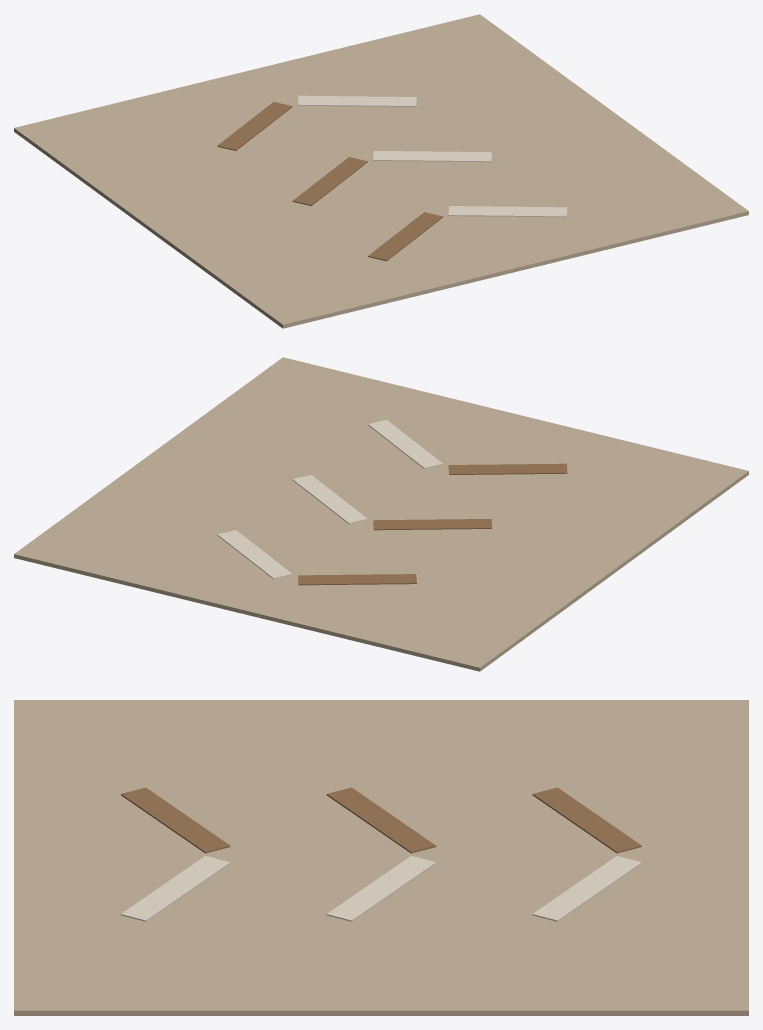
3 renders of one model, top to bottom at view 1: azimuth 30°, elevation 25°; view 2: azimuth 150°, elevation 25°; view 3: azimuth 270°, elevation 25°, orthographic. The views are drawn at different scales.
Parts seen in each view (by area): view 1: floor-base, chevron-right-2, chevron-right-0, chevron-right-1, chevron-left-0, chevron-left-1, chevron-left-2; view 2: floor-base, chevron-left-0, chevron-left-2, chevron-left-1, chevron-right-0, chevron-right-1, chevron-right-2; view 3: floor-base, chevron-right-1, chevron-left-1, chevron-left-2, chevron-left-0, chevron-right-2, chevron-right-0.
Boxes of the visible parts, left/top/right/bottom form: floor-base: left=14, top=14, right=748, bottom=328; chevron-right-2: left=448, top=206, right=567, bottom=217; chevron-right-0: left=298, top=95, right=416, bottom=106; chevron-right-1: left=373, top=151, right=492, bottom=162; chevron-left-0: left=217, top=102, right=292, bottom=150; chevron-left-1: left=292, top=157, right=367, bottom=205; chevron-left-2: left=368, top=212, right=443, bottom=261; floor-base: left=14, top=357, right=748, bottom=671; chevron-left-0: left=298, top=574, right=416, bottom=585; chevron-left-2: left=448, top=463, right=567, bottom=474; chevron-left-1: left=373, top=519, right=492, bottom=530; chevron-right-0: left=217, top=530, right=292, bottom=579; chevron-right-1: left=292, top=475, right=367, bottom=523; chevron-right-2: left=368, top=420, right=443, bottom=468; floor-base: left=14, top=700, right=748, bottom=1015; chevron-right-1: left=326, top=856, right=436, bottom=921; chevron-left-1: left=326, top=787, right=436, bottom=853; chevron-left-2: left=121, top=787, right=230, bottom=853; chevron-left-0: left=532, top=787, right=641, bottom=853; chevron-right-2: left=121, top=856, right=230, bottom=921; chevron-right-0: left=532, top=856, right=641, bottom=921.
Bounding box in the file's own units: 1 × 0.01 × 1.
